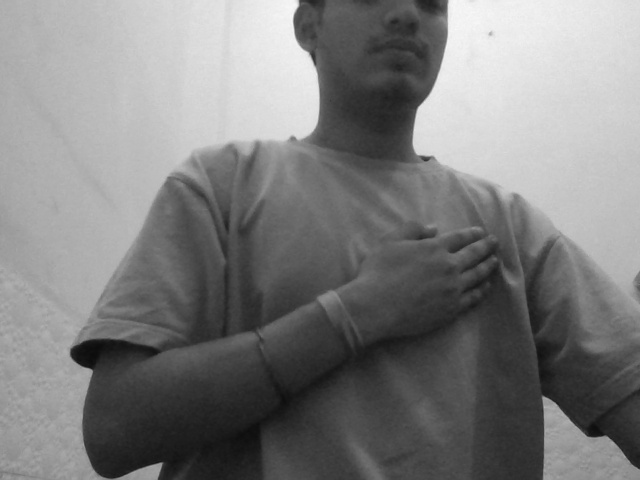Sorry: (334, 191, 553, 384)
